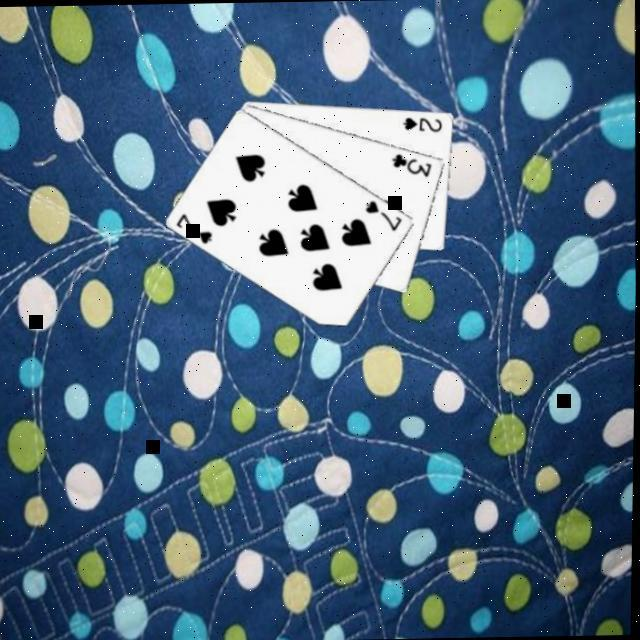2S: (400, 113, 446, 136)
3C: (389, 150, 436, 181)
7S: (362, 197, 407, 236), (174, 209, 218, 248)
